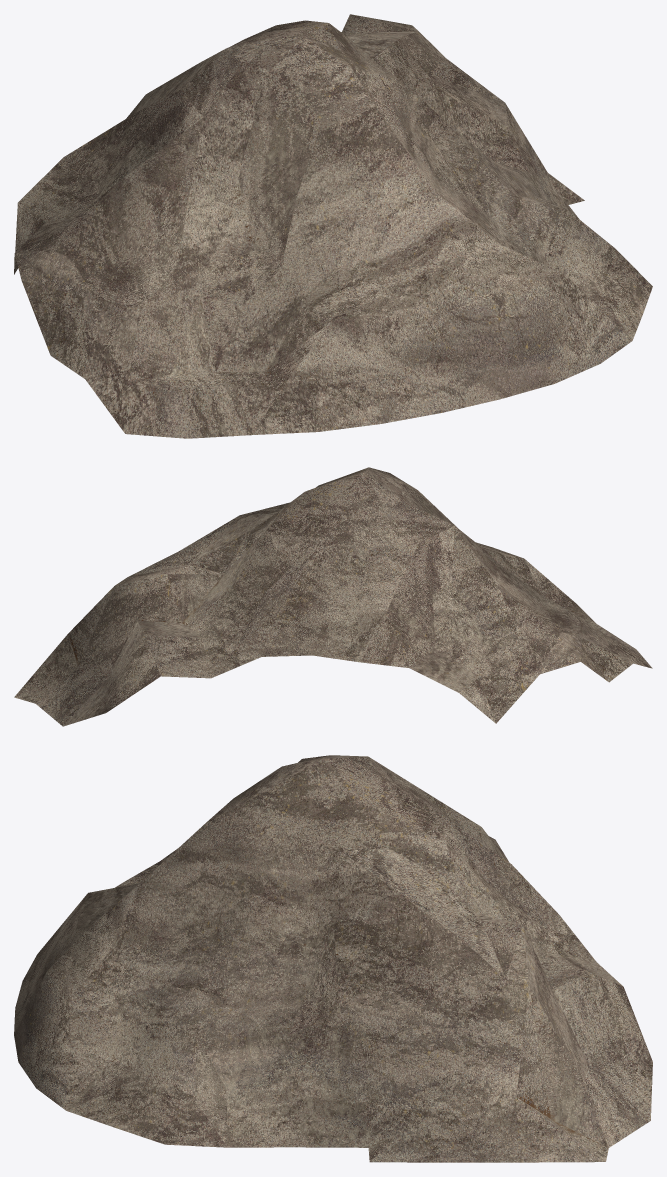
Rendered from Vertedero.obj.
3 views of the same model, one above another, from view 1: azimuth 30°, elevation 25°; view 2: azimuth 150°, elevation 25°; view 3: azimuth 270°, elevation 25° (orthographic). The views are drawn at different scales.
Visible parts, largest first — view 1: Line002; view 2: Line002; view 3: Line002.
Boxes of the visible parts, x1,y1,x2,y2 form: Line002: (14, 14, 652, 438); Line002: (14, 467, 652, 726); Line002: (14, 755, 652, 1162).
Size of the model in its own units: 190 by 80.01 by 181.
Materials: 1 (1 with a texture image).
